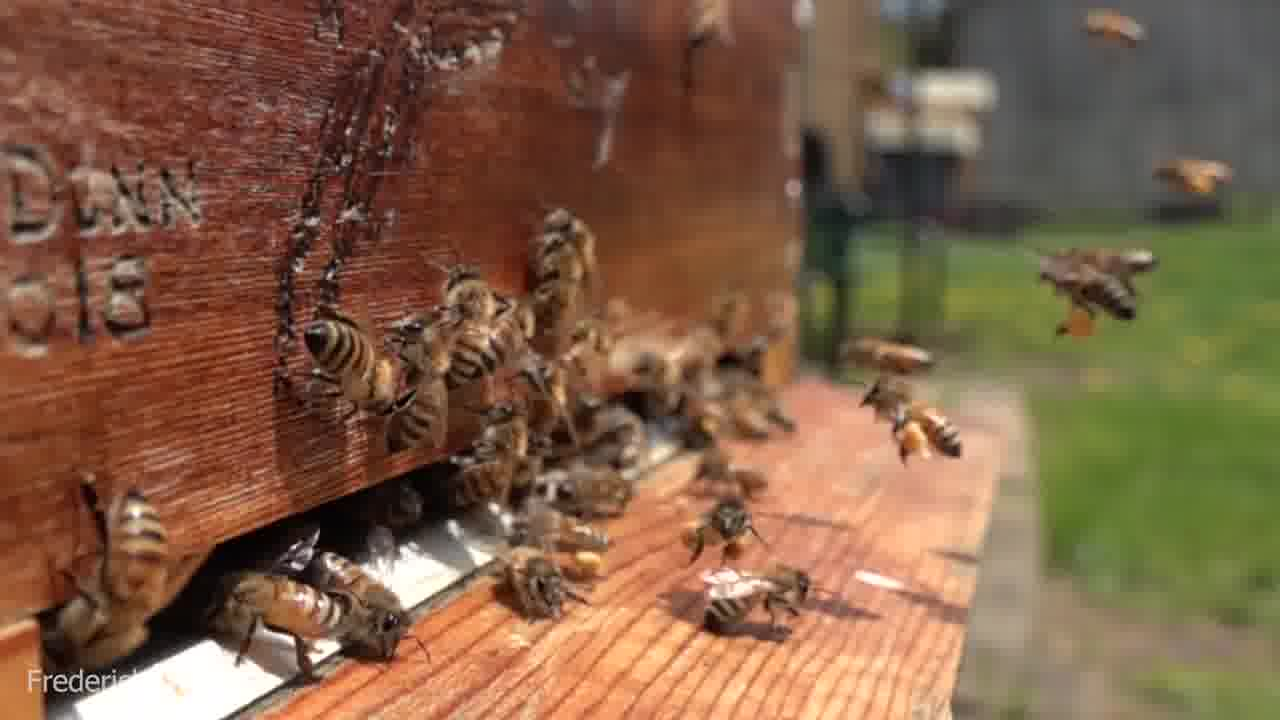pollen: (1032, 251, 1142, 352), (859, 376, 966, 471)
